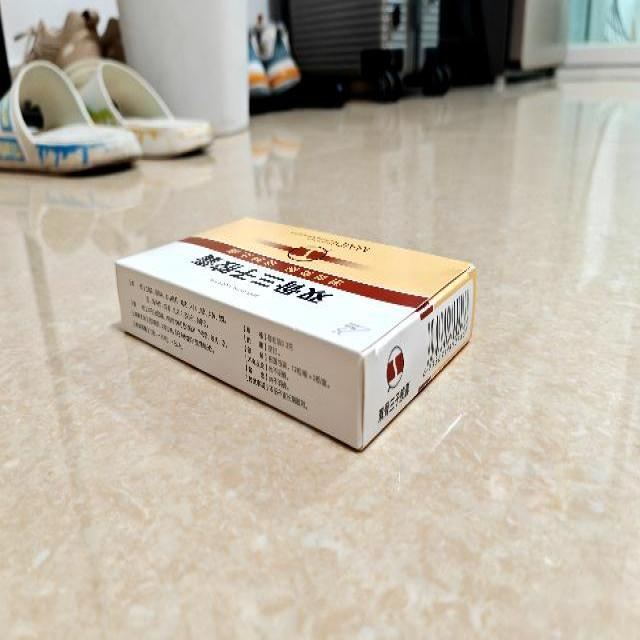box: (114, 215, 476, 452)
